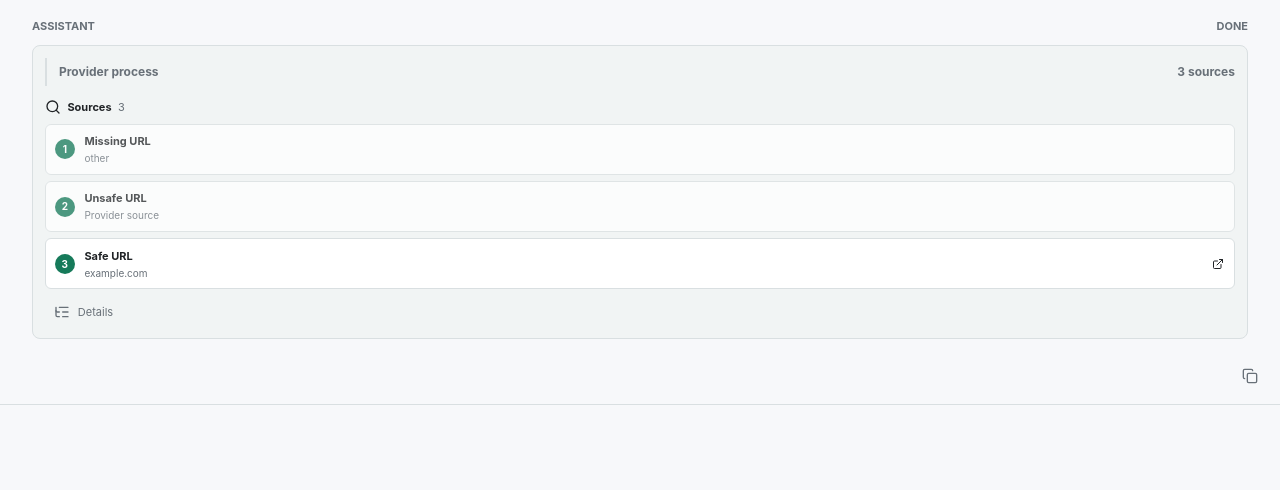
MessageView structured sources › keeps missing and unsafe source URLs visible but non-interactive
Click the heading "Provider process 3 sources" at [109, 72], box [59,64,1235,79]
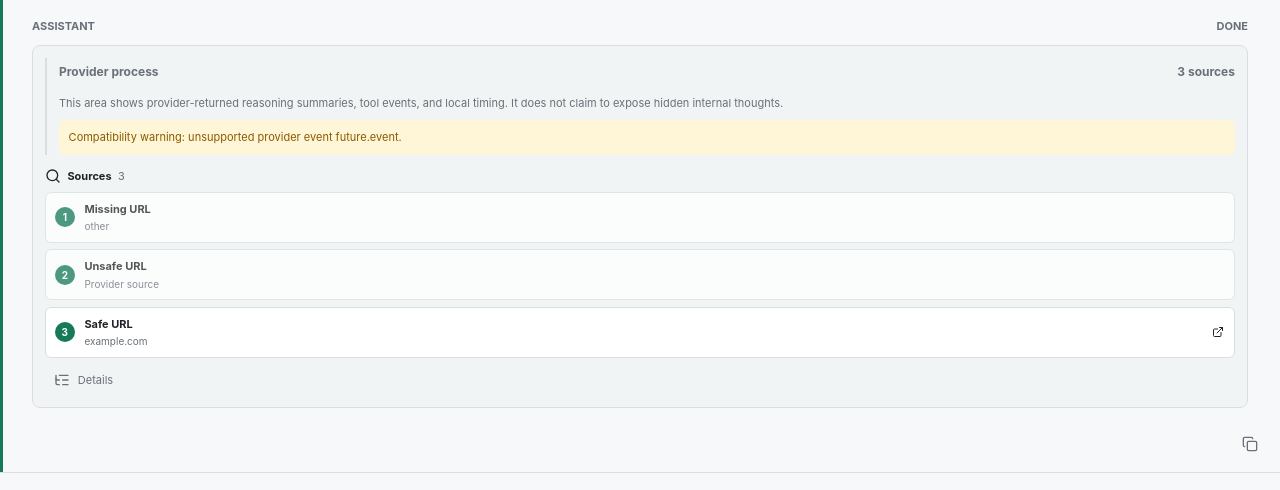
Expected: the button with aria-label "Source Missing URL" is disabled, [45,192,1235,243]
Now the text "unsupported provider event future.event" is shown, box [69,130,402,144]
